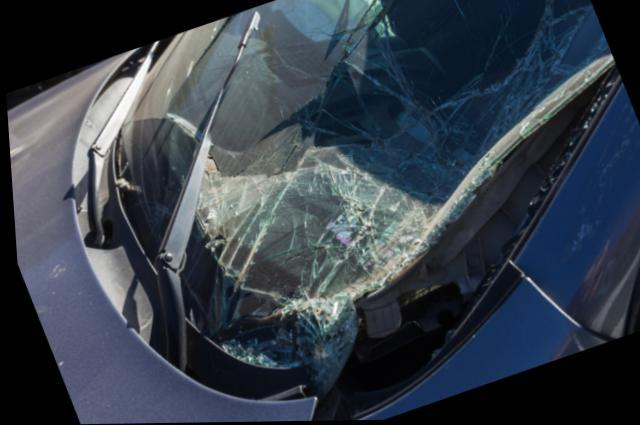glass shatter: (129, 0, 618, 393)
